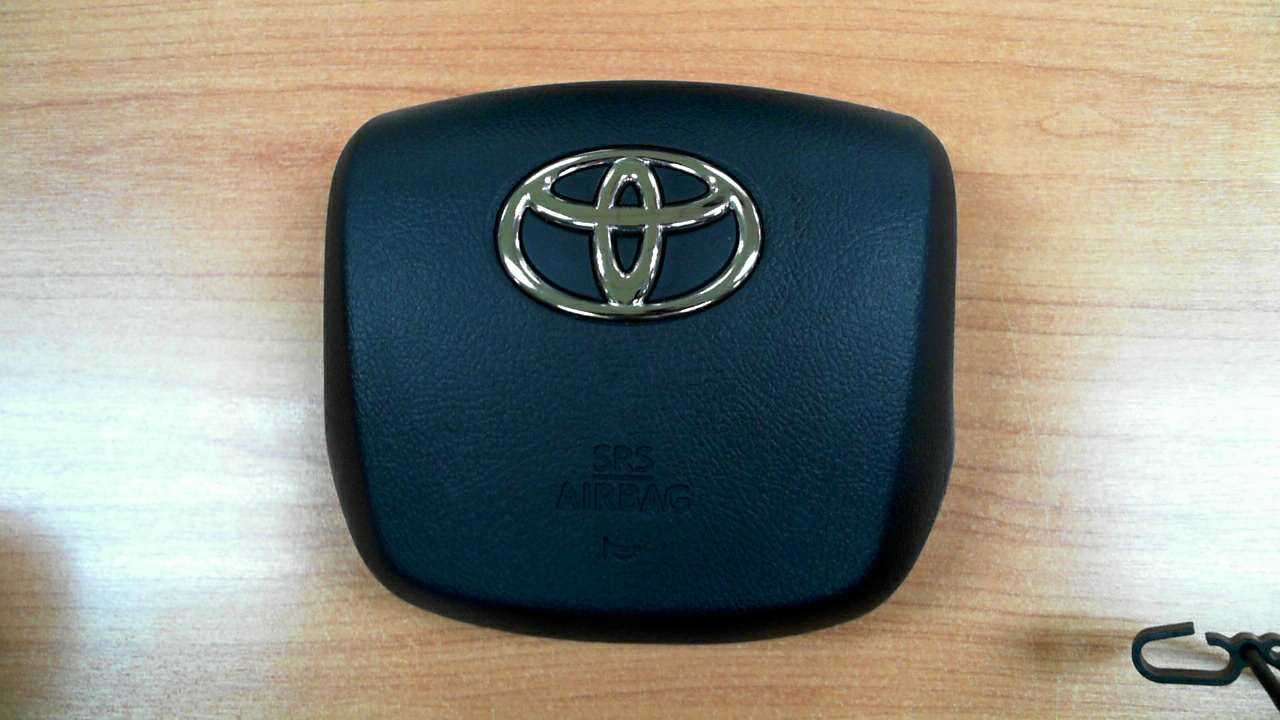Airbag: (277, 38, 999, 693)
